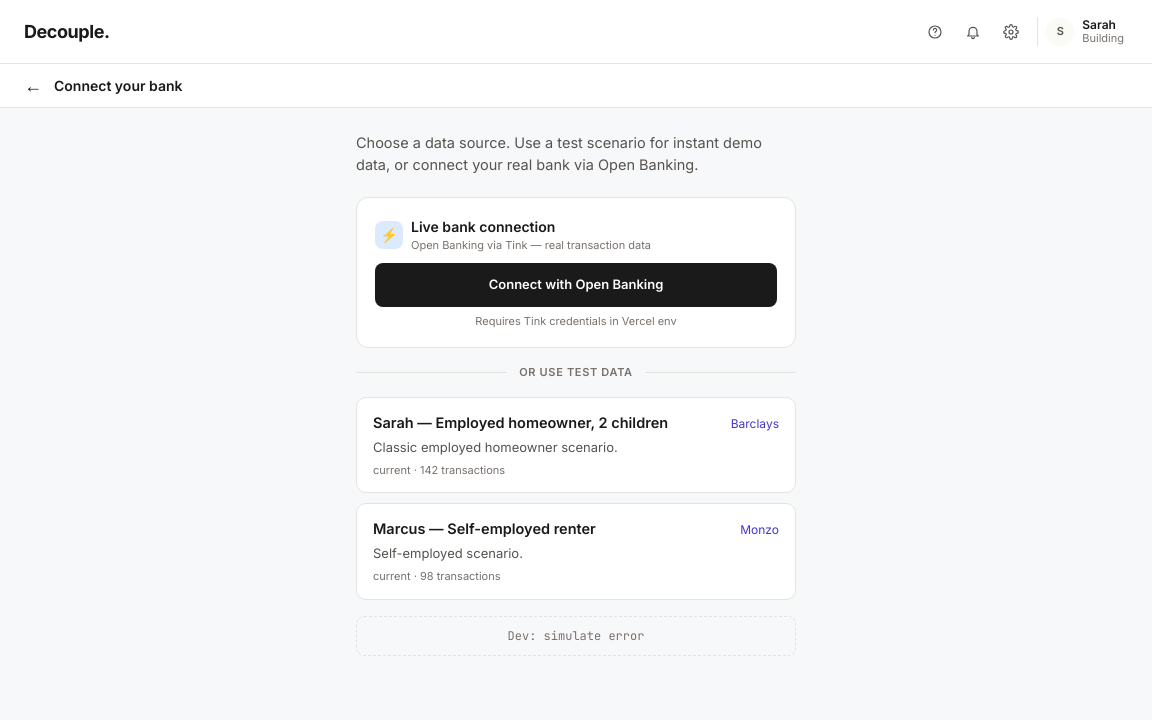
Test: /dev/proto/bank-connect page › transitions to success state when a scenario card is clicked (AC-1 + AC-3)
The width and height of the screenshot is (1152, 720).
Click the text "Sarah — Employed homeowner, 2 children" at (521, 423), box [373, 412, 668, 434]
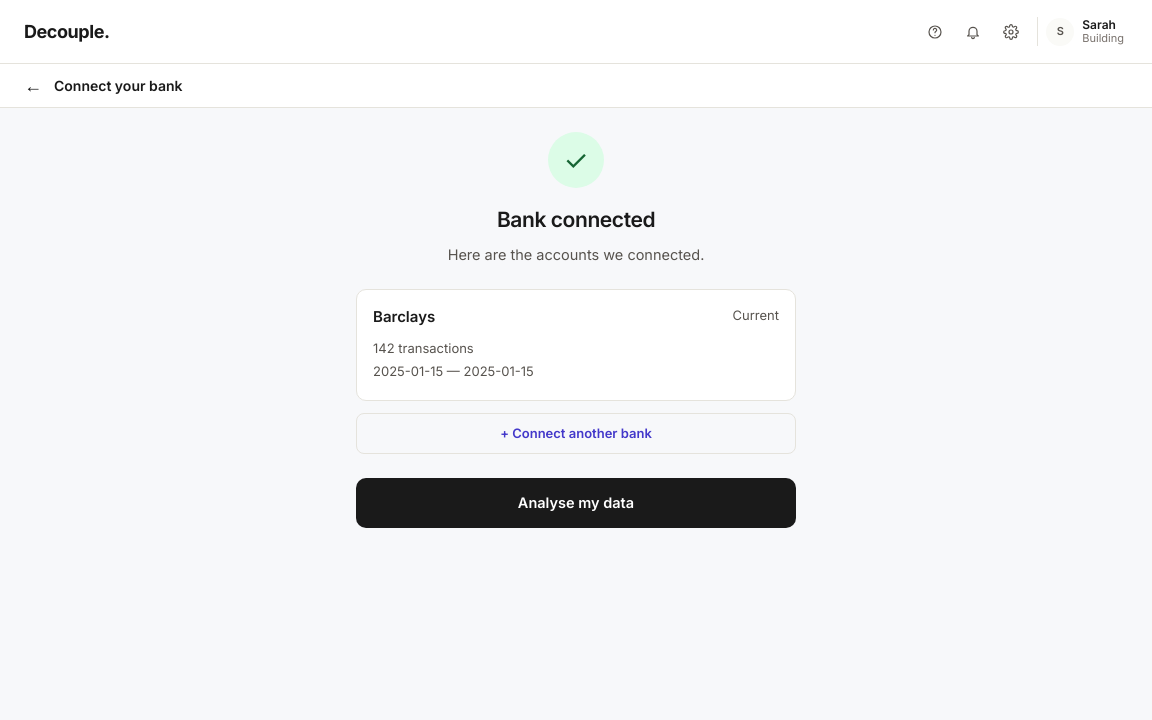
Check: the text "142 transactions" is shown, box [373, 340, 474, 356]
Check: the heading "Bank connected" is shown, box [497, 207, 655, 232]
